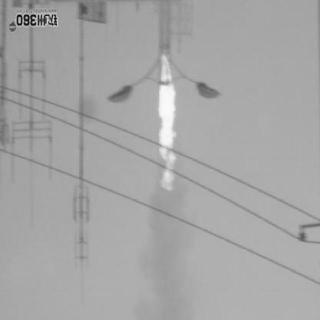Fire: (154, 54, 182, 196)
Smoke: (142, 202, 195, 314)
